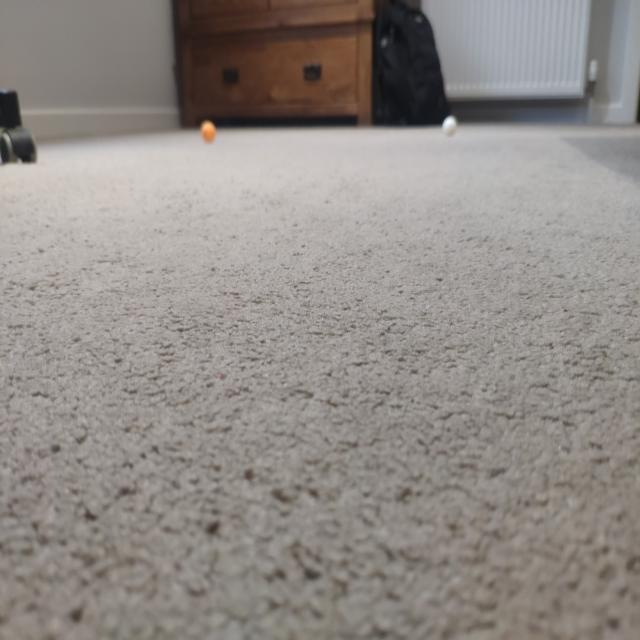oball: (198, 116, 218, 146)
